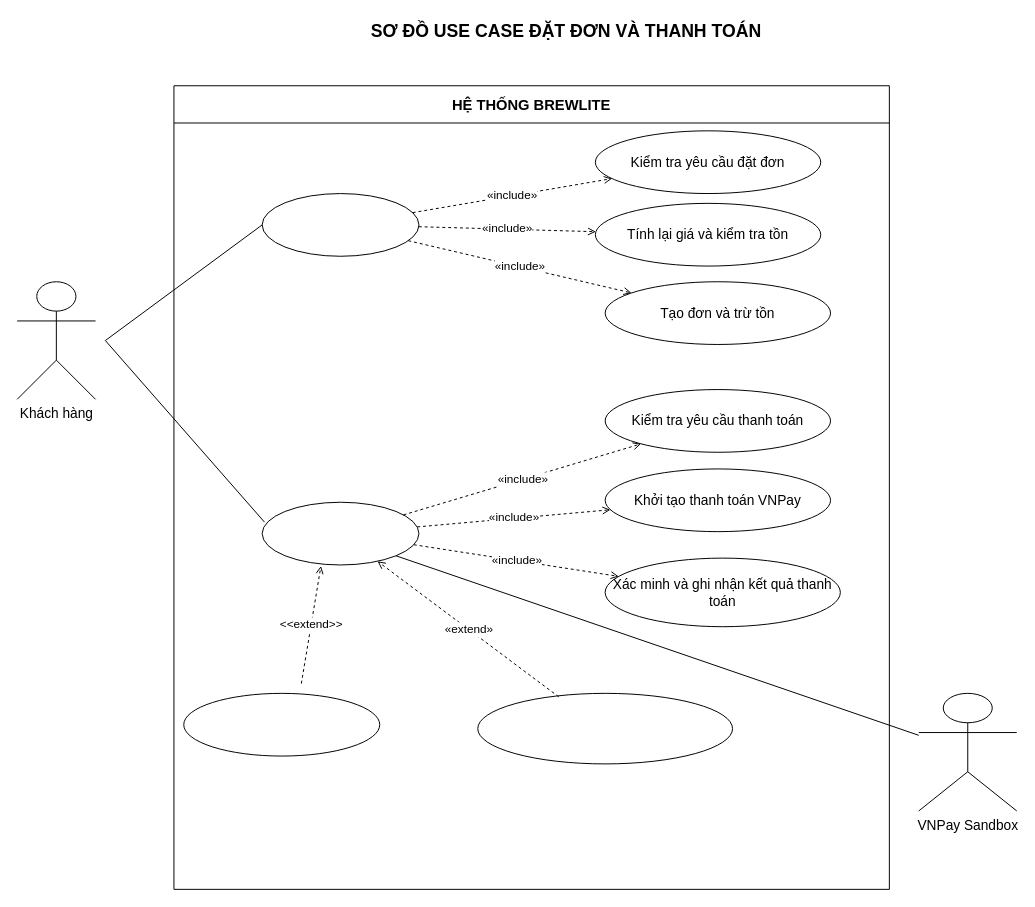
The diagram is 1035 pixels wide and 907 high, and some of its shapes have lost their labels. Each missing label, with the centre of its shape:
"Thanh toán lại" goes at (x=281, y=724).
"Thanh toán đơn" goes at (x=340, y=533).
"Xử lý thất bại hoặc hết hạn và hoàn tồn" goes at (x=605, y=728).
"Đặt đơn" goes at (x=340, y=224).
